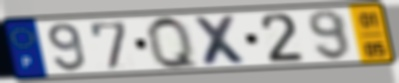2: (260, 11, 308, 65)
7: (87, 19, 129, 71)
9: (306, 8, 353, 63), (46, 21, 88, 73)
Q: (144, 14, 203, 72)
X: (190, 14, 253, 68)
